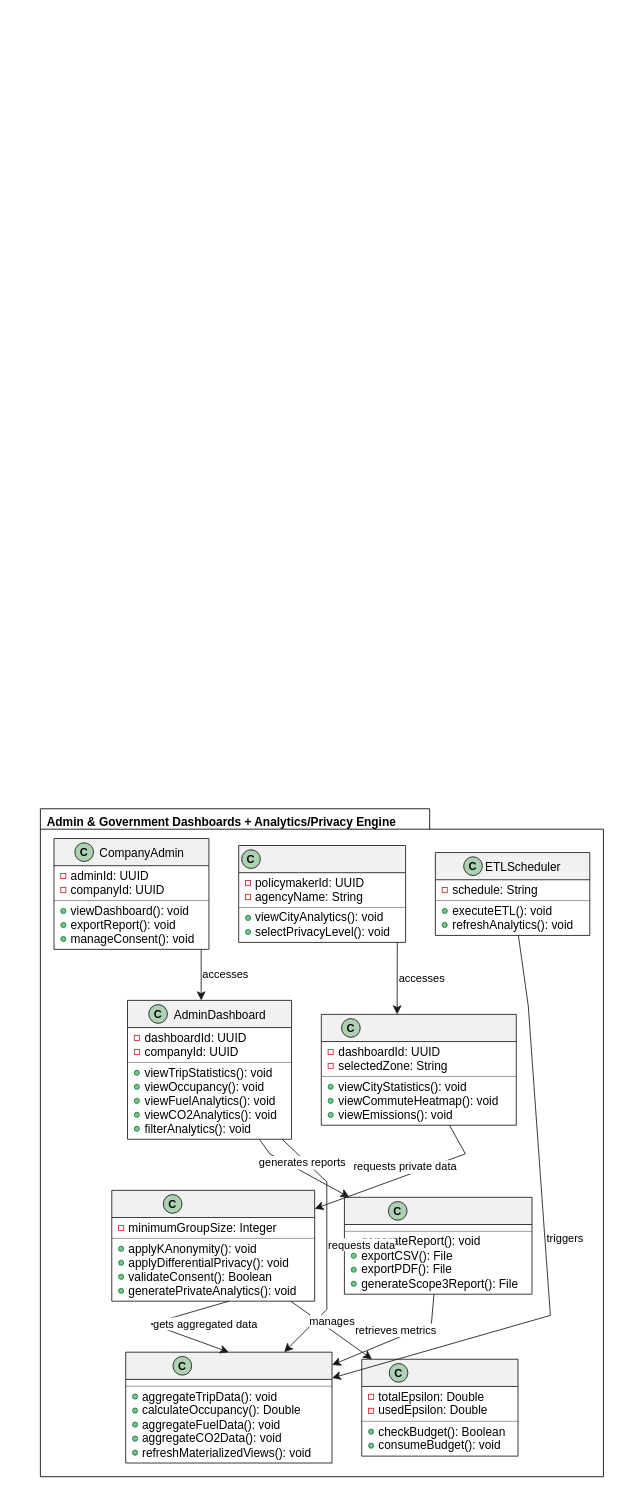
Some shapes in this 618 by 1492 pixel diagram are drawn without their labels. Here are the shapes that lost their labels. From the top down, the box of each, then its label:
(238, 845, 406, 942): GovernmentPolicymaker
(320, 1014, 516, 1125): GovernmentDashboard
(111, 1189, 315, 1301): PrivacyEngine
(344, 1196, 532, 1294): ReportService
(125, 1351, 332, 1463): AnalyticsEngine
(361, 1358, 518, 1456): PrivacyBudget
